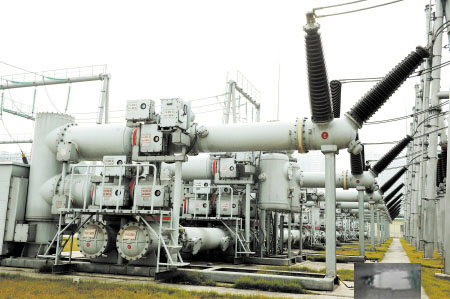oil: (354, 261, 420, 295)
